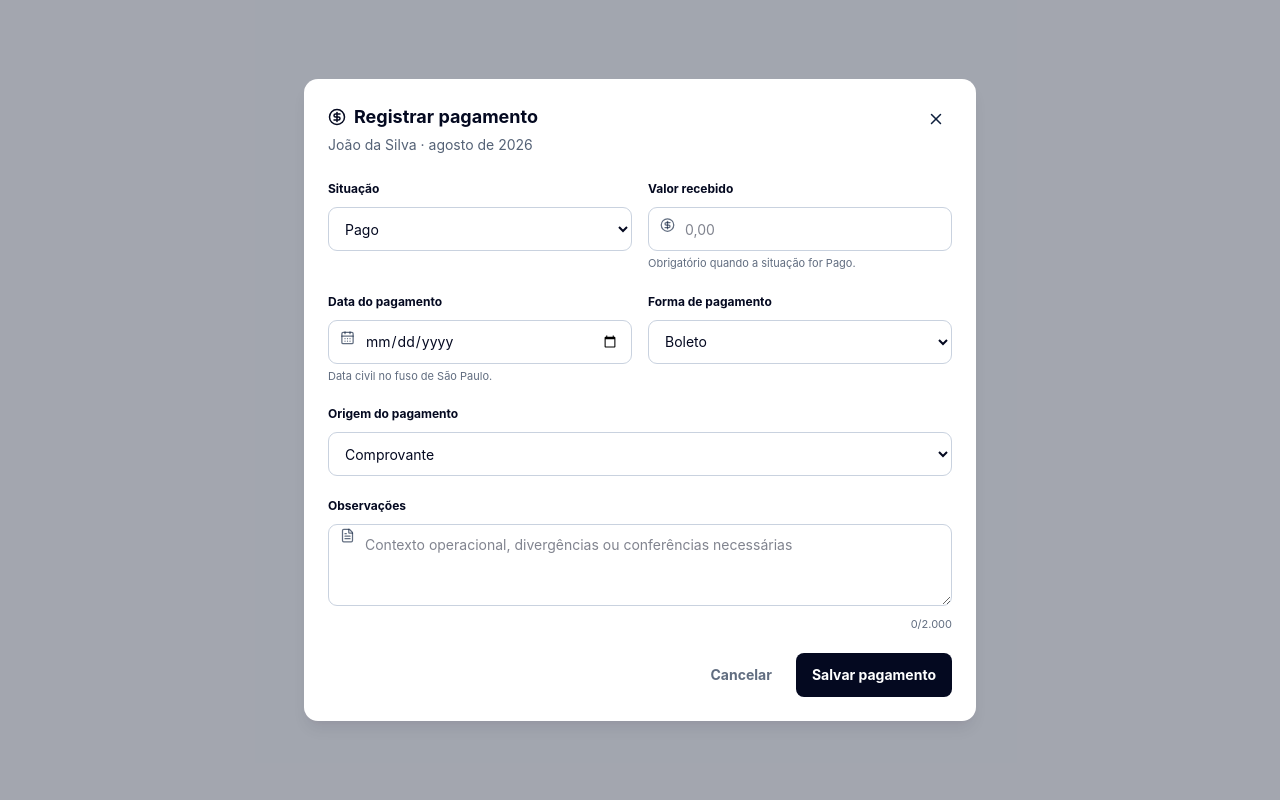
it: PaymentEditorDialog › requires value and date for paid records and rejects future dates
Click the button "Salvar pagamento" at (874, 675), box [796, 653, 952, 697]
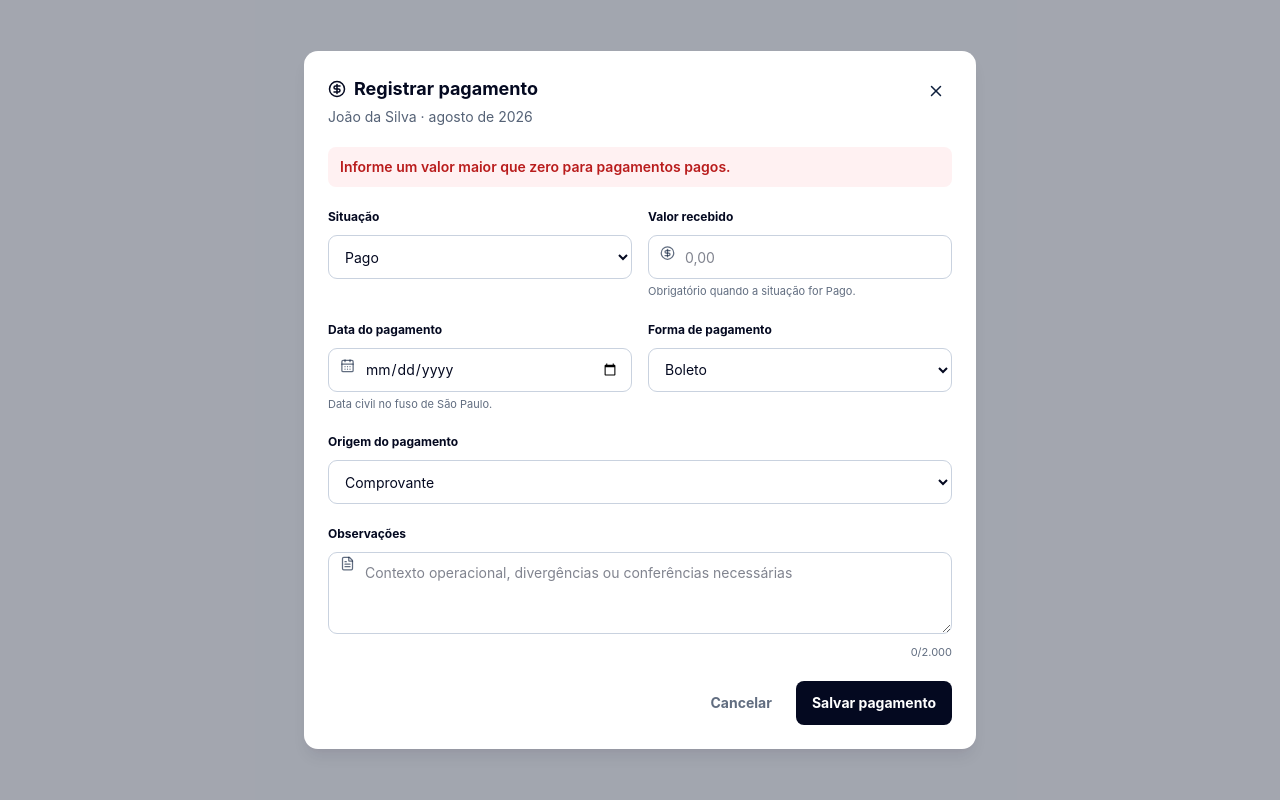
Result: the message shows "valor maior que zero" at [340, 158, 730, 175]
Type "10,00" into the field labelled "Valor recebido" at (800, 257), box [648, 235, 952, 279]
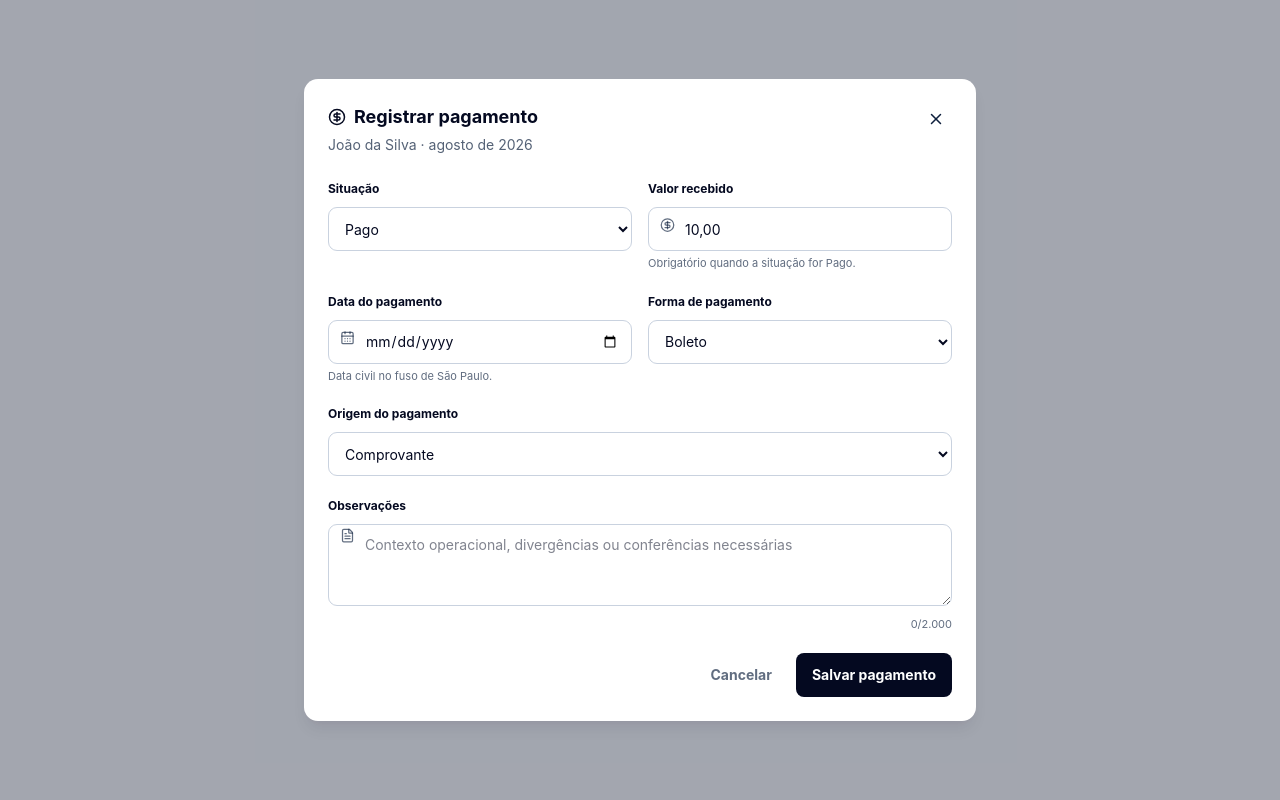
Type "2999-01-01" into the date field labelled "Data do pagamento" at (480, 342), box [328, 320, 632, 364]
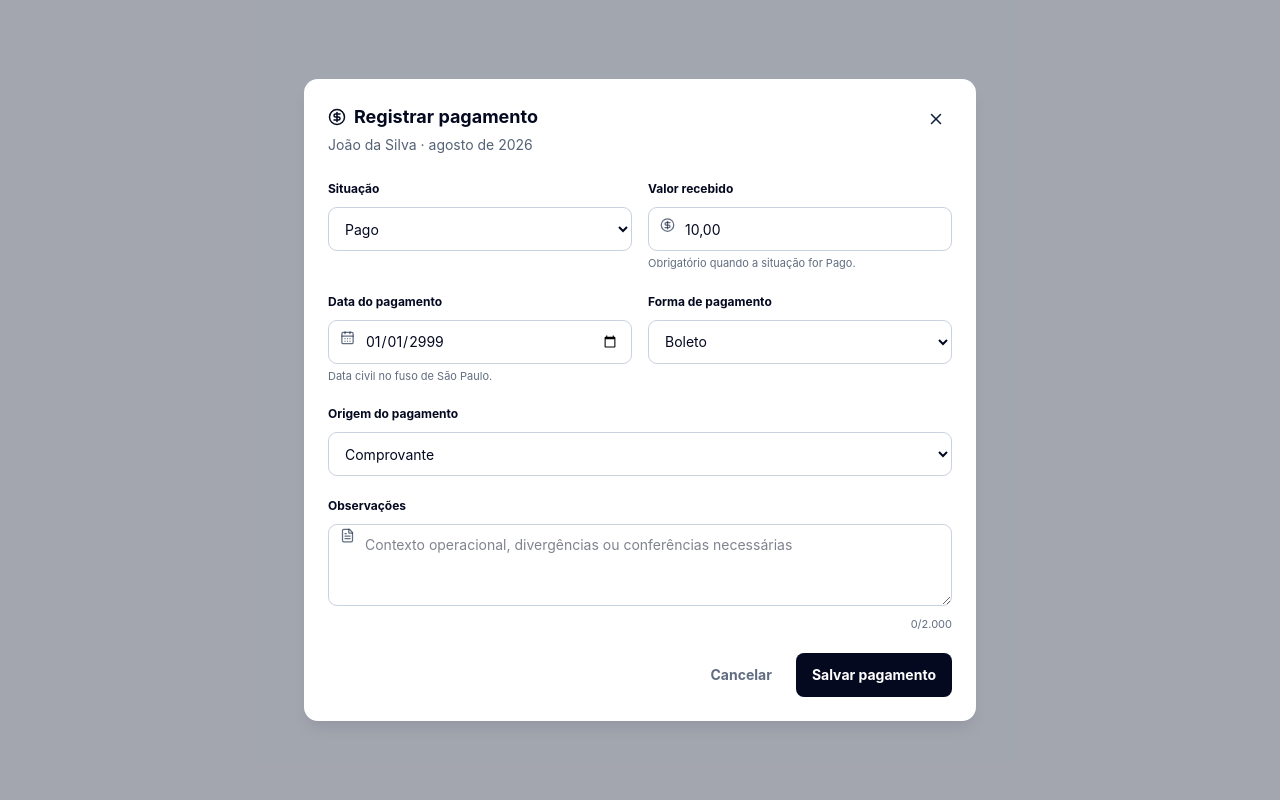
Click the button "Salvar pagamento" at (874, 675), box [796, 653, 952, 697]
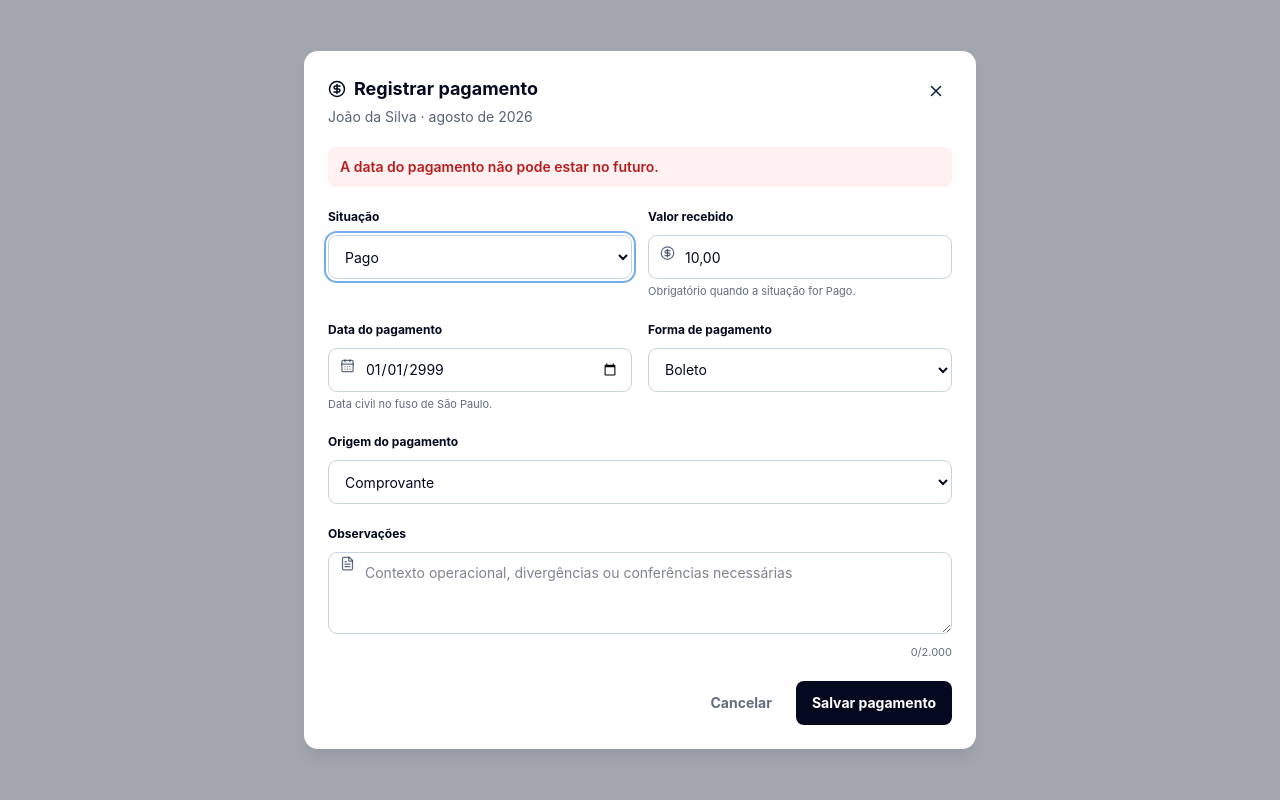
Result: the message shows "não pode estar no futuro" at [340, 158, 659, 175]
